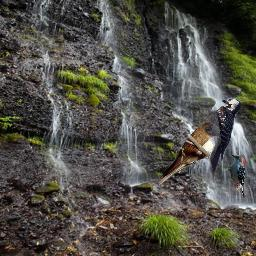Cuckoo: (159, 111, 236, 186)
Woodpecker: (203, 94, 241, 178), (227, 153, 245, 198)
